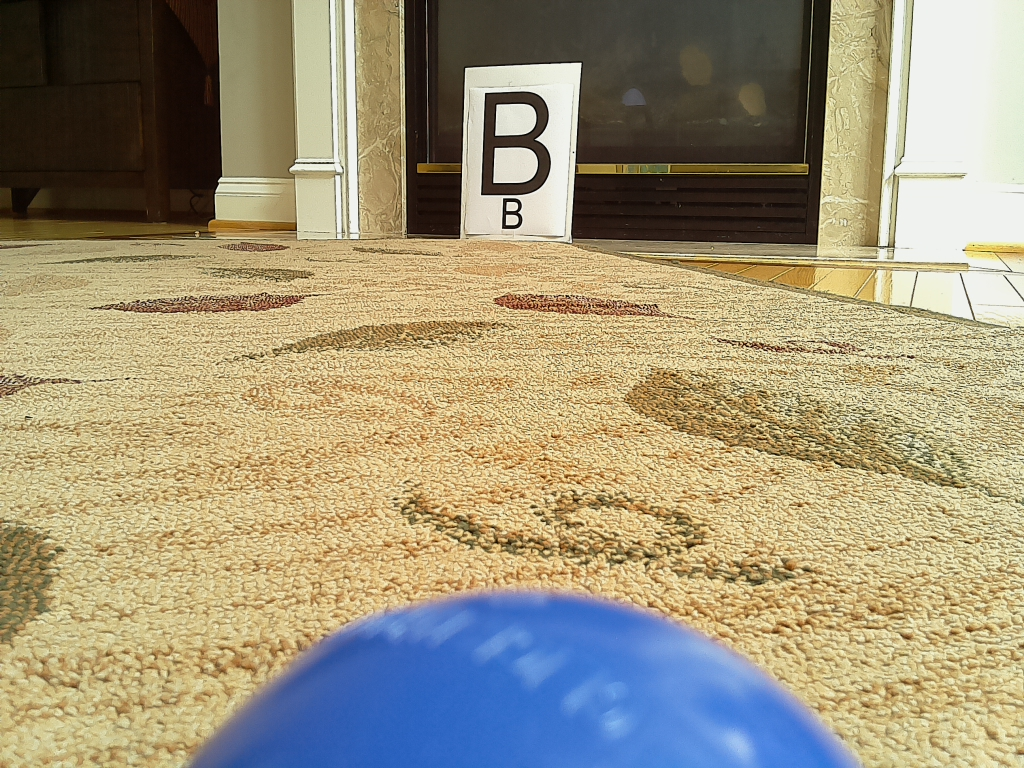letter: (481, 92, 552, 196)
